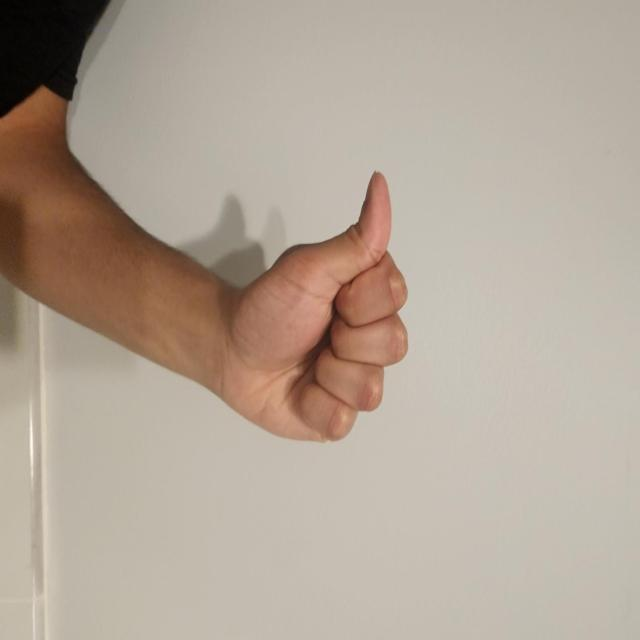A: (283, 306, 497, 562)
